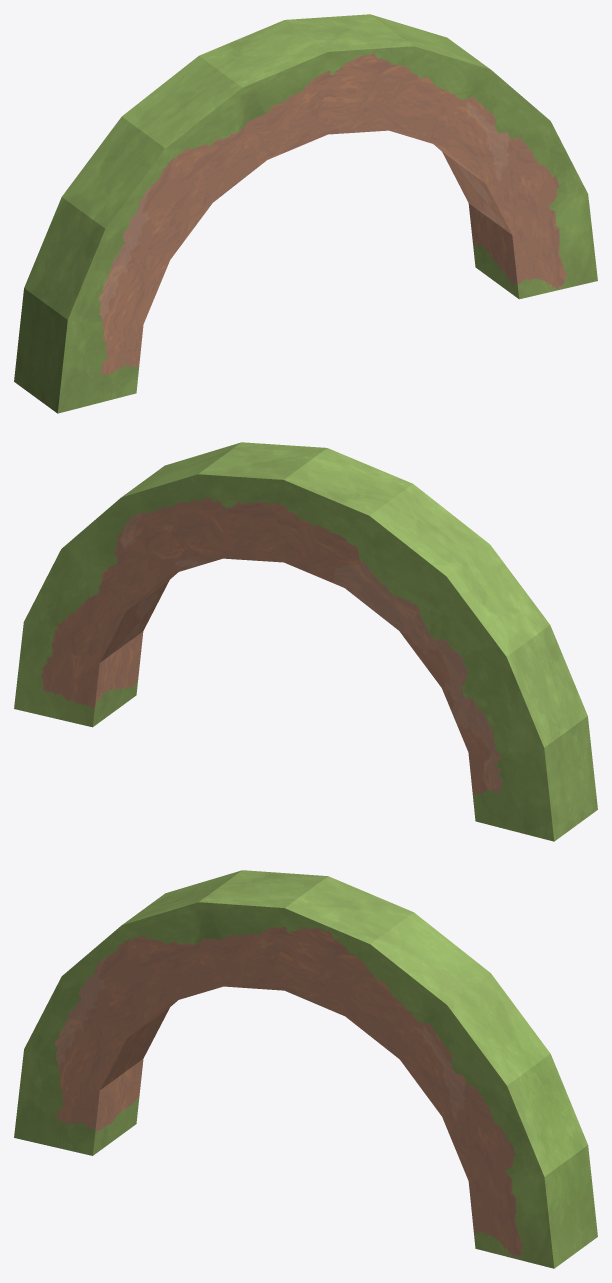
The model's file is Arco.fbx.
The picture shows the model from 3 angles, top to bottom: view 1: azimuth 30°, elevation 25°; view 2: azimuth 150°, elevation 25°; view 3: azimuth 330°, elevation 25°; orthographic projection.
Visible parts, largest first — view 1: arco; view 2: arco; view 3: arco.
Boxes of the visible parts, left/top/right/bottom form: arco: left=14, top=14, right=597, bottom=413; arco: left=14, top=442, right=597, bottom=841; arco: left=14, top=870, right=597, bottom=1268.
Bounding box in the file's own units: 920 × 481 × 129.
Materials: 1 (1 with a texture image).
